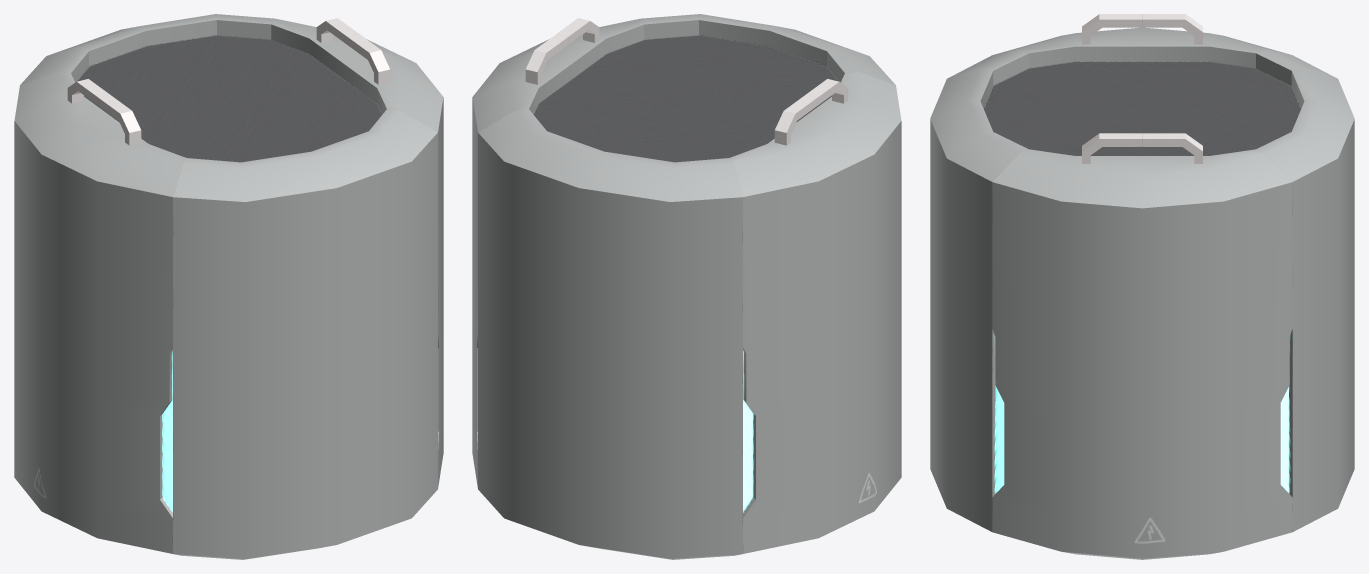
Rendered from Battery Pack.fbx.
3 renders of one model, left to right at view 1: azimuth 30°, elevation 25°; view 2: azimuth 150°, elevation 25°; view 3: azimuth 270°, elevation 25°, orthographic.
Parts seen in each view (by area): view 1: Battery; view 2: Battery; view 3: Battery.
Boxes of the visible parts, left/top/right/bottom form: Battery: left=14, top=14, right=443, bottom=559; Battery: left=472, top=14, right=901, bottom=559; Battery: left=930, top=14, right=1354, bottom=559.
Size of the model in its own units: 48.35 by 51.47 by 48.35.
